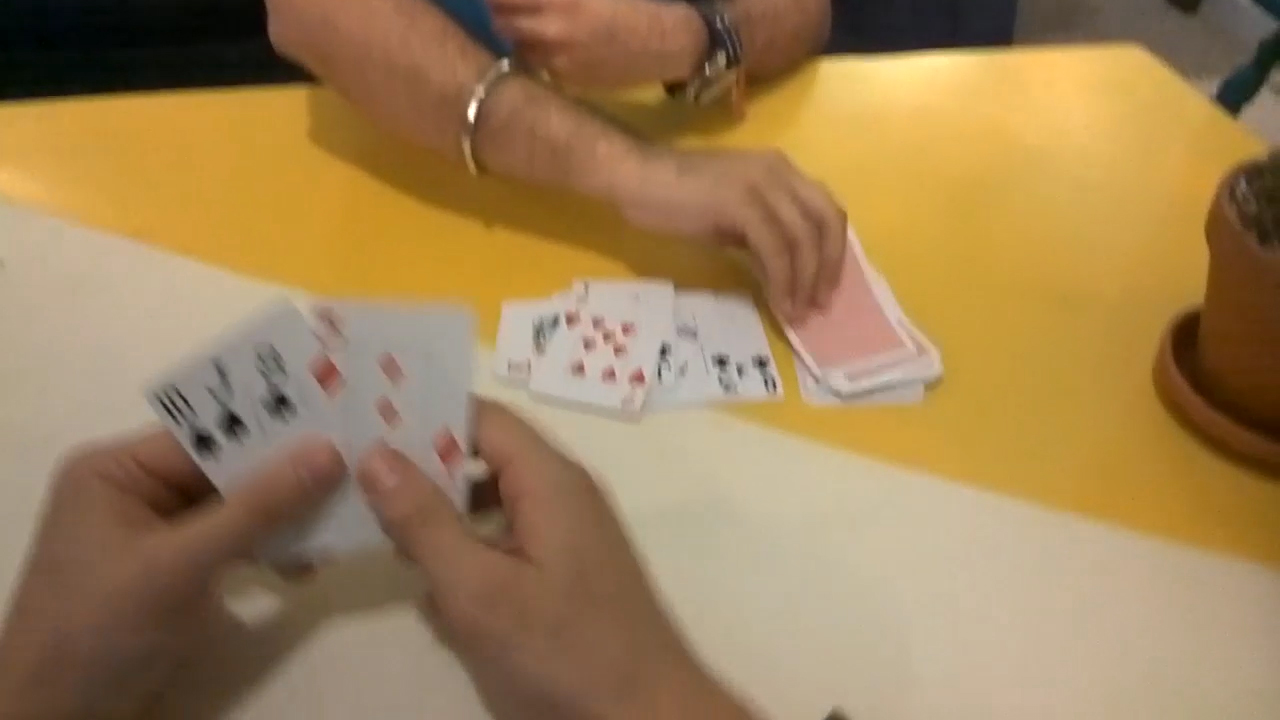hand: (360, 397, 742, 715), (0, 425, 329, 707), (610, 149, 846, 317)
